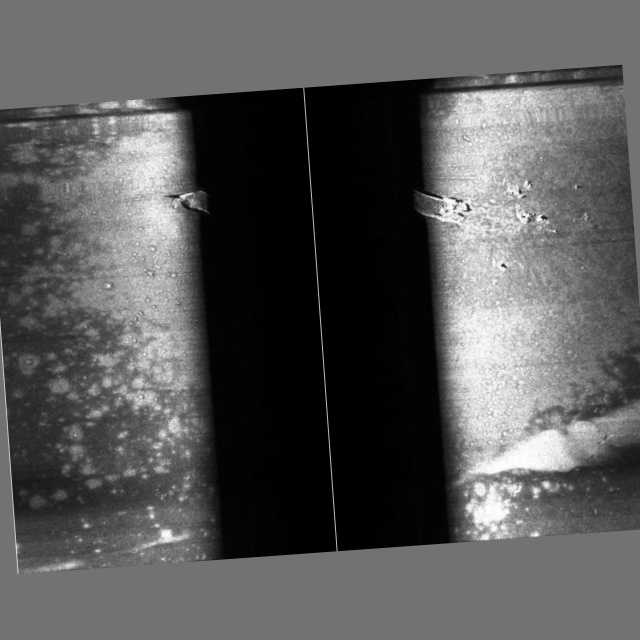Shipwreck: (168, 162, 593, 308)
